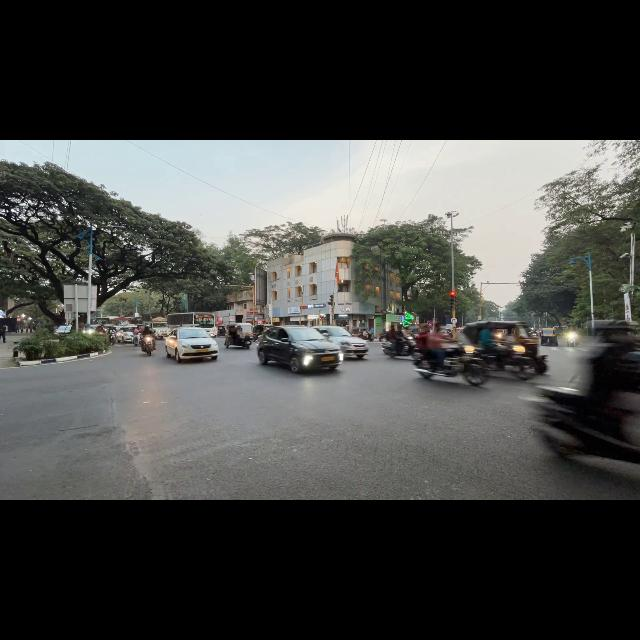bus: (167, 312, 214, 328)
car: (257, 326, 343, 372), (166, 327, 218, 362), (314, 326, 368, 358), (116, 326, 136, 342), (54, 325, 72, 339)
motorcycle: (531, 387, 639, 463), (414, 345, 488, 386), (476, 345, 535, 379), (381, 337, 416, 358), (142, 336, 154, 356), (567, 332, 577, 346), (132, 334, 140, 346), (378, 331, 386, 341), (110, 333, 116, 345)
truck: (143, 314, 169, 338)
